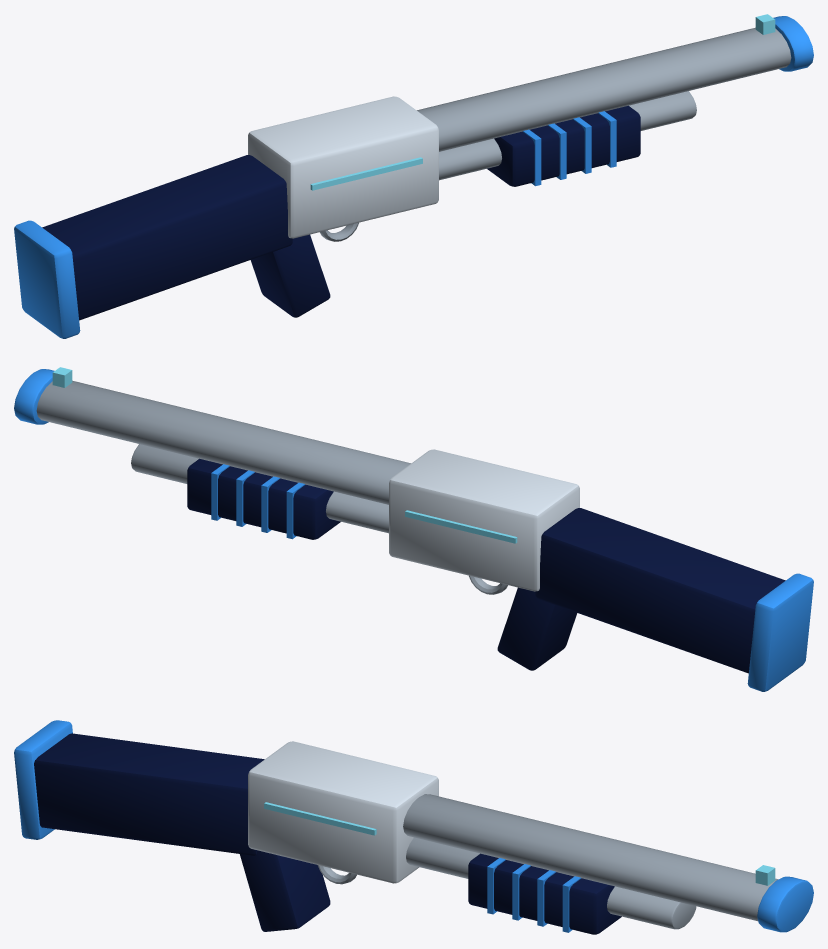
Rendered from SGP_Shotgun_Frost.obj.
3 renders of one model, top to bottom at view 1: azimuth 30°, elevation 25°; view 2: azimuth 150°, elevation 25°; view 3: azimuth 330°, elevation 25°, orthographic.
Visible parts, largest first — view 1: SGP_Shotgun_Frost; view 2: SGP_Shotgun_Frost; view 3: SGP_Shotgun_Frost.
Part boxes in pixels (bbox=[...]): SGP_Shotgun_Frost: bbox=[14, 14, 813, 338]; SGP_Shotgun_Frost: bbox=[14, 367, 813, 691]; SGP_Shotgun_Frost: bbox=[14, 720, 813, 934].
Size of the model in its own units: 0.759 by 0.1617 by 0.0832.
